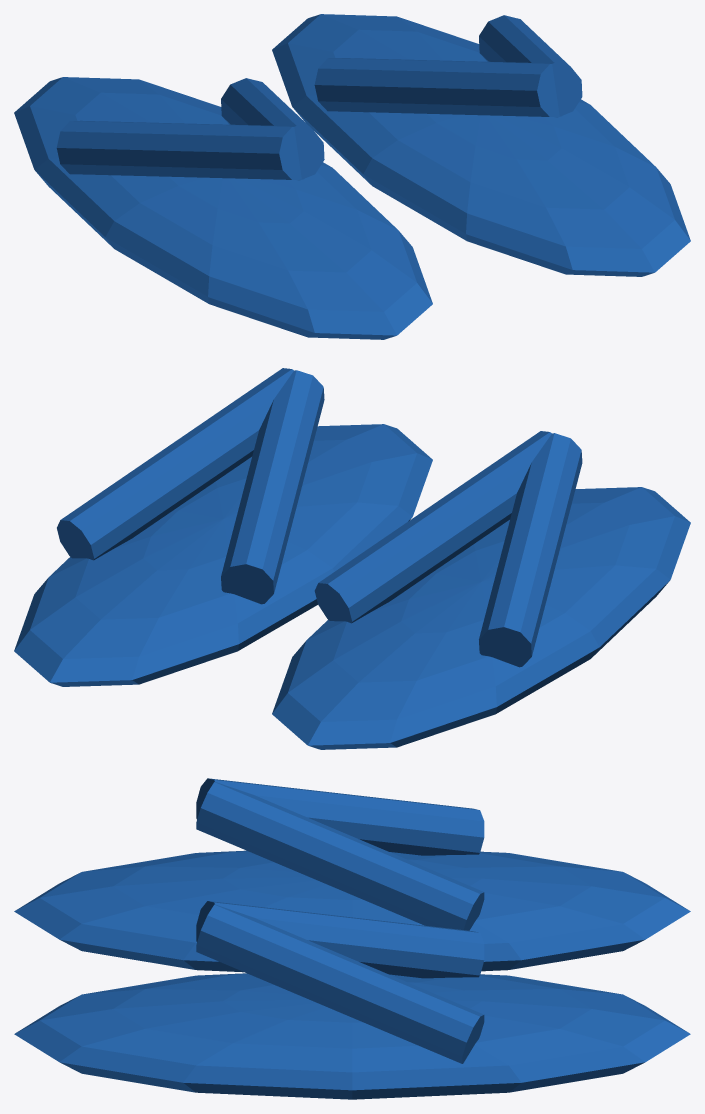
File: good.glb
3 renders of one model, top to bottom at view 1: azimuth 30°, elevation 25°; view 2: azimuth 150°, elevation 25°; view 3: azimuth 270°, elevation 25°, orthographic. The views are drawn at different scales.
Parts seen in each view (by area): view 1: Flip-flop sole; view 2: Flip-flop sole; view 3: Flip-flop sole.
Part boxes in pixels (x1=…): Flip-flop sole: x1=14, y1=14, x2=690, y2=339; Flip-flop sole: x1=14, y1=368, x2=690, y2=749; Flip-flop sole: x1=14, y1=778, x2=690, y2=1099.
Bounding box in the file's own units: 0.7667 × 0.2528 × 0.9333.
